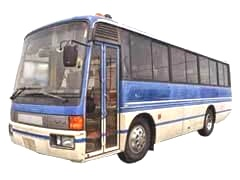bus: (8, 15, 231, 163)
